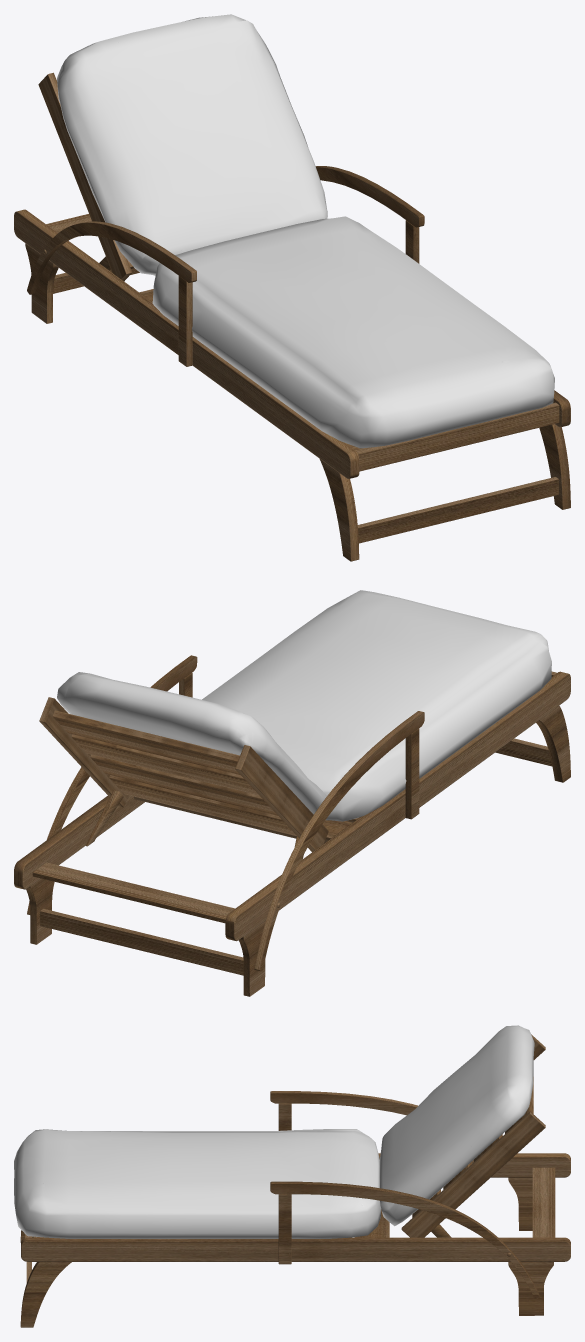
The model's file is lounger.glb.
3 renders of one model, top to bottom at view 1: azimuth 30°, elevation 25°; view 2: azimuth 150°, elevation 25°; view 3: azimuth 270°, elevation 25°, orthographic. The views are drawn at different scales.
Parts seen in each view (by area): view 1: cushion, frame; view 2: cushion, frame; view 3: cushion, frame.
Boxes of the visible parts, x1,y1,x2,y2 form: cushion: (57,14,554,448); frame: (14,72,570,561); cushion: (57,590,551,821); frame: (14,655,570,996); cushion: (14,1025,534,1238); frame: (20,1034,570,1327).
Size of the model in its own units: 0.6946 by 0.8 by 1.74.
2 materials, 2 textured.
